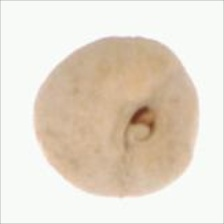L3: (119, 102, 156, 151)
L4: (34, 35, 199, 198)
